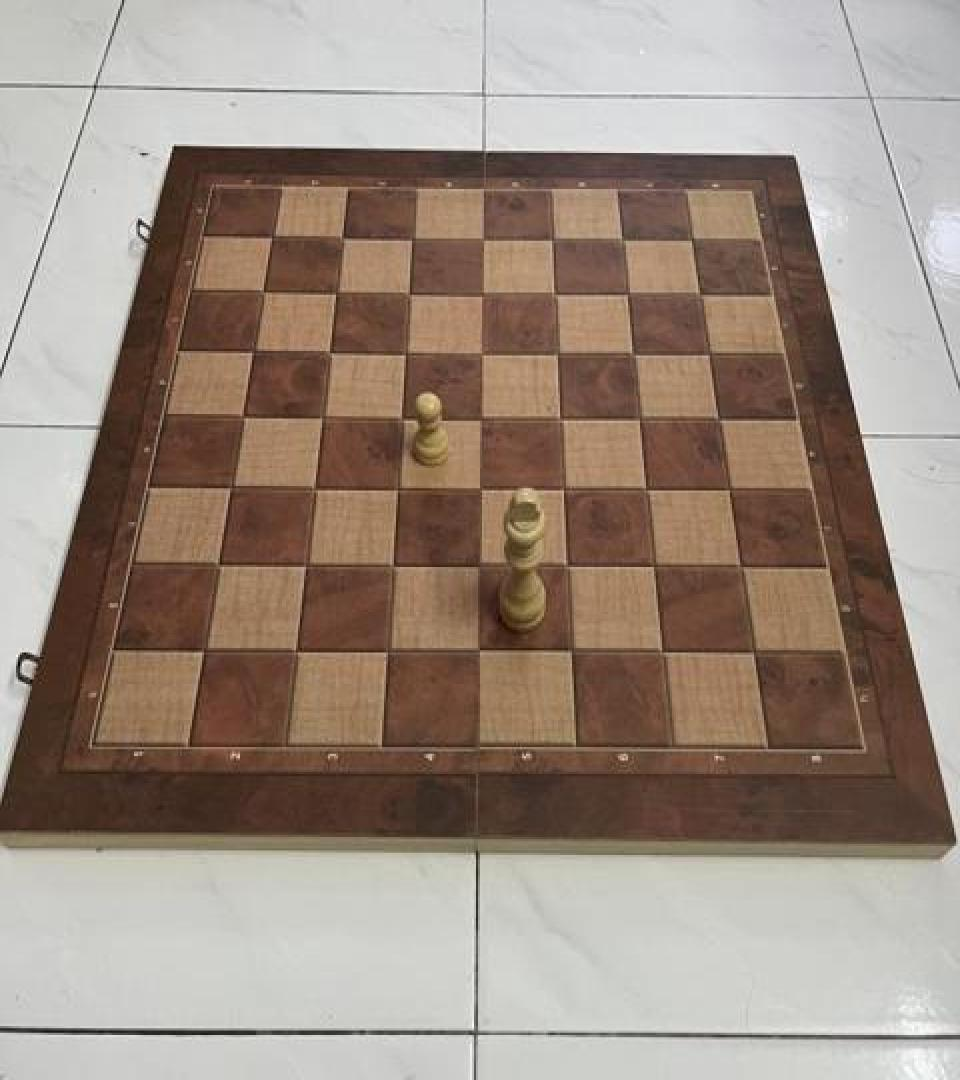xcorner: (374, 545, 406, 582), (287, 545, 319, 582), (200, 545, 232, 582), (675, 222, 707, 258), (605, 222, 637, 258), (535, 220, 567, 256), (464, 220, 496, 256), (394, 220, 426, 256), (324, 220, 356, 256), (254, 220, 286, 256), (683, 276, 715, 312), (610, 276, 642, 312), (537, 276, 569, 312), (464, 276, 496, 312), (391, 274, 423, 310), (318, 274, 350, 310), (245, 274, 277, 310), (692, 335, 724, 371), (616, 335, 648, 371), (539, 335, 571, 371), (463, 334, 495, 370), (387, 334, 419, 370), (311, 334, 343, 370), (235, 333, 267, 369), (701, 400, 733, 436), (622, 400, 654, 436), (542, 400, 574, 436), (463, 400, 495, 436), (383, 398, 415, 434), (304, 398, 336, 434), (224, 398, 256, 434), (712, 470, 744, 506), (629, 470, 661, 506), (545, 470, 577, 506), (462, 469, 494, 505), (379, 469, 411, 505), (296, 468, 328, 504), (213, 468, 245, 504), (723, 548, 755, 584), (636, 548, 668, 584), (549, 547, 581, 583), (461, 547, 493, 583), (736, 634, 768, 670), (644, 632, 676, 668), (552, 632, 584, 668), (461, 631, 493, 667), (369, 631, 401, 667), (278, 630, 310, 666), (186, 630, 218, 666)
